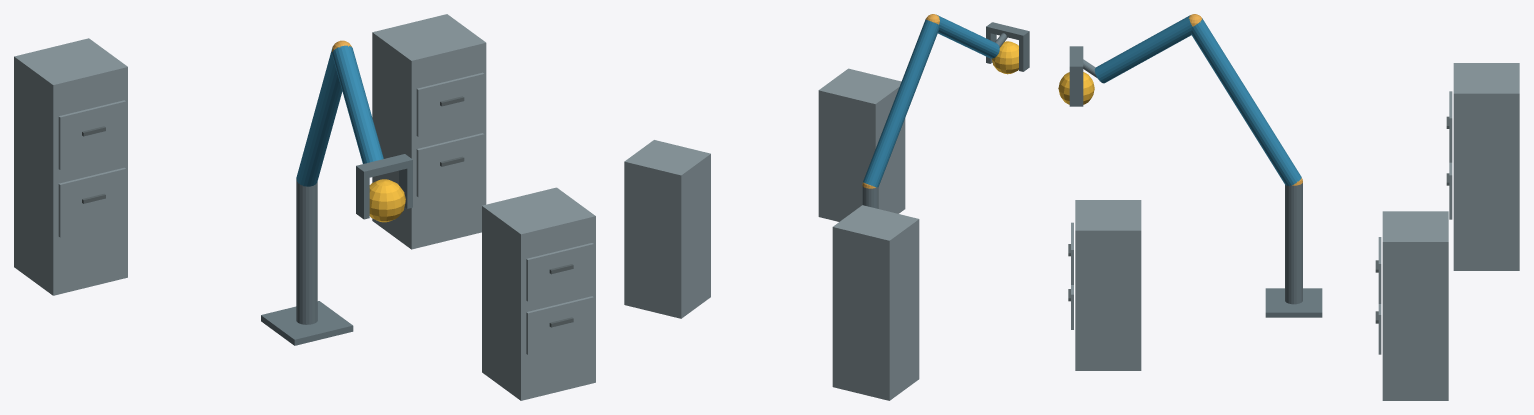
The picture shows the model from 3 angles, left to right: view 1: azimuth 30°, elevation 25°; view 2: azimuth 150°, elevation 25°; view 3: azimuth 270°, elevation 25°; orthographic projection. The views are drawn at different scales.
Visible parts, largest first — view 1: cabinet_3 body, cabinet_1 body, cabinet_2 body, cabinet_3 drawer front, cabinet_3 drawer front.001, cabinet_2 drawer front, cabinet_2 drawer front.001, fixed post, cabinet_1 drawer front, cabinet_1 drawer front.001, moving link 2, moving link 1 (+4 smaller); view 2: cabinet_3 body, cabinet_2 body, cabinet_1 body, moving link 1, moving link 2, ball ball_1, gripper bridge; view 3: cabinet_3 body, cabinet_2 body, cabinet_1 body, moving link 1, fixed post, moving link 2, pedestal, ball ball_1, gripper finger 1.
Boxes of the visible parts, x1=… form: cabinet_3 body: x1=14, y1=38, x2=127, y2=295; cabinet_1 body: x1=482, y1=187, x2=595, y2=400; cabinet_2 body: x1=372, y1=14, x2=486, y2=249; cabinet_3 drawer front: x1=58, y1=167, x2=125, y2=237; cabinet_3 drawer front.001: x1=58, y1=100, x2=125, y2=169; cabinet_2 drawer front: x1=416, y1=133, x2=484, y2=197; cabinet_2 drawer front.001: x1=416, y1=72, x2=484, y2=136; fixed post: x1=296, y1=180, x2=317, y2=324; cabinet_1 drawer front: x1=526, y1=296, x2=593, y2=354; cabinet_1 drawer front.001: x1=526, y1=243, x2=593, y2=301; moving link 2: x1=332, y1=45, x2=383, y2=163; moving link 1: x1=296, y1=47, x2=342, y2=186; cabinet_3 body: x1=832, y1=205, x2=919, y2=400; cabinet_2 body: x1=624, y1=140, x2=710, y2=318; cabinet_1 body: x1=818, y1=68, x2=905, y2=221; moving link 1: x1=863, y1=19, x2=939, y2=187; moving link 2: x1=936, y1=14, x2=999, y2=58; ball ball_1: x1=992, y1=41, x2=1018, y2=74; gripper bridge: x1=986, y1=22, x2=1029, y2=41; cabinet_3 body: x1=1453, y1=63, x2=1519, y2=270; cabinet_2 body: x1=1382, y1=211, x2=1448, y2=400; cabinet_1 body: x1=1075, y1=200, x2=1141, y2=370; moving link 1: x1=1191, y1=18, x2=1301, y2=186; fixed post: x1=1285, y1=182, x2=1302, y2=304; moving link 2: x1=1094, y1=15, x2=1192, y2=83; pedestal: x1=1265, y1=288, x2=1322, y2=317; ball ball_1: x1=1058, y1=72, x2=1094, y2=104; gripper finger 1: x1=1069, y1=72, x2=1083, y2=106.
Bounding box in the file's own units: 1.67 × 1.36 × 2.03.
